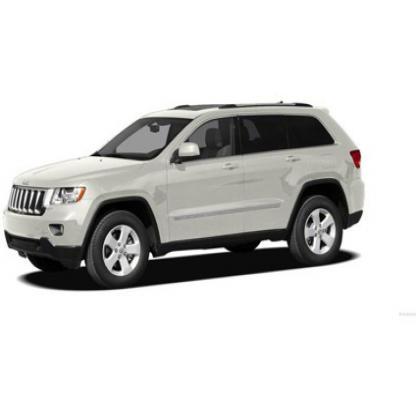Vehicle: (3, 103, 367, 293)
